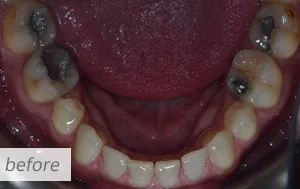LL1BC_healthy: (224, 101, 258, 139)
LL1M_decay: (251, 10, 296, 55)
LL2BC_decay: (228, 49, 282, 102)
LLCI_healthy: (155, 159, 181, 186)
LLC_healthy: (205, 130, 236, 167)
LLLI_healthy: (183, 148, 207, 179)
LR1BC_healthy: (53, 96, 81, 132)
LR1M_decay: (6, 3, 55, 47)
LR2BC_decay: (25, 48, 80, 96)
LRCI_healthy: (127, 159, 153, 184)
LRC_healthy: (77, 124, 101, 160)
LRLI_healthy: (103, 143, 126, 179)
